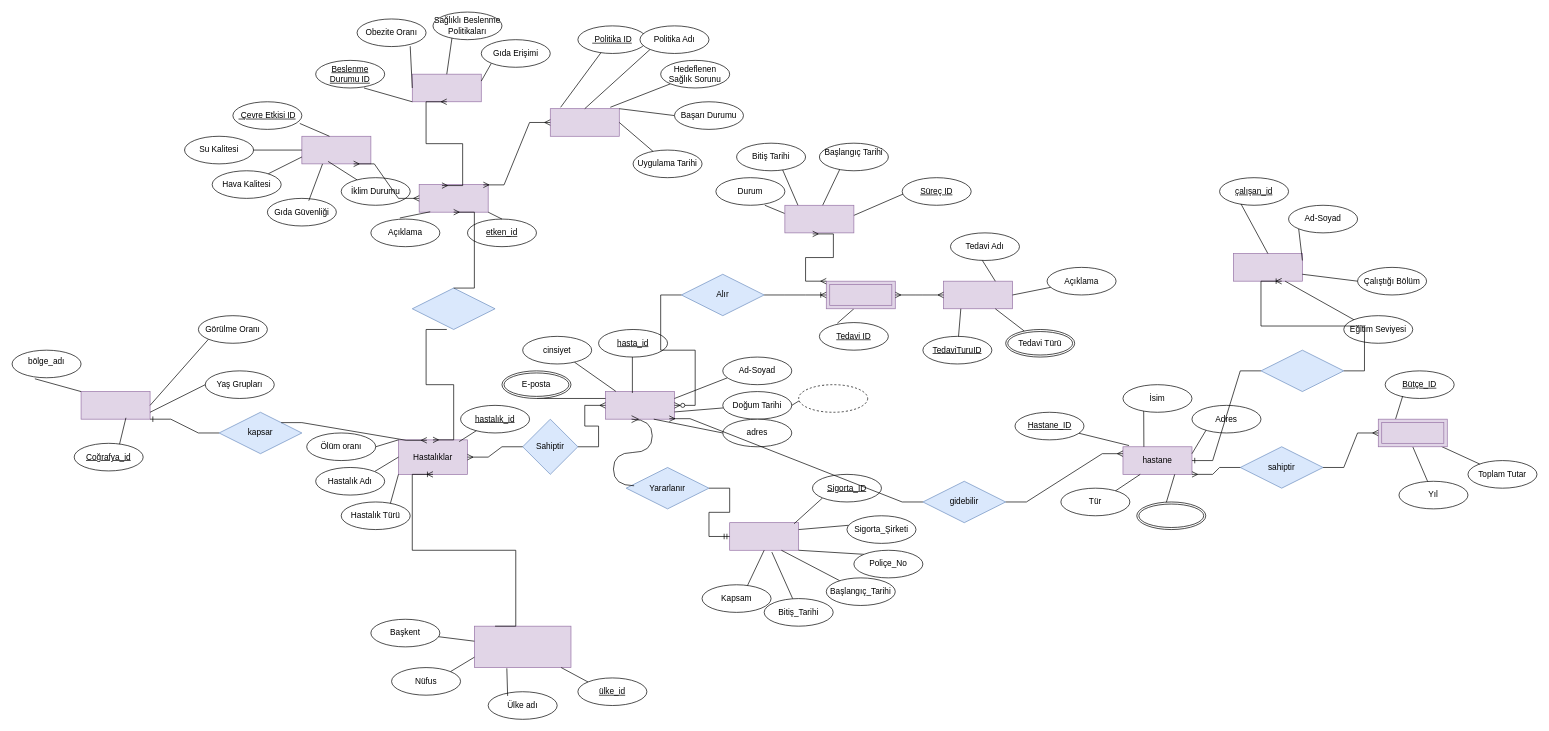
This 1549x731 diagram has some shape labels left out. Each missing label, with the box of its shape:
Beslenme durumu: (412, 73, 481, 102)
Bütçe: (1378, 418, 1447, 447)
Etkenler: (418, 184, 488, 212)
etkiler: (412, 287, 495, 329)
Hasta: (605, 391, 674, 419)
Hastalık Coğrafyası: (80, 391, 150, 419)
Sağlık Politikaları: (550, 108, 619, 136)
Sağlık Sigortası: (729, 522, 799, 550)
Sağlık Çalışanı: (1233, 253, 1302, 281)
Tedavi: (826, 280, 895, 309)
Tedavi süreci: (784, 205, 854, 233)
Tedavi Türleri: (943, 280, 1013, 309)
Telefon: (1136, 501, 1206, 530)
yaş: (798, 384, 868, 412)
çalışır: (1260, 349, 1344, 392)
Çevresel Etkiler: (301, 136, 371, 164)
Ülkeler: (474, 625, 571, 668)
